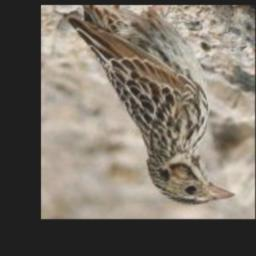Sparrow: (59, 8, 237, 207)
